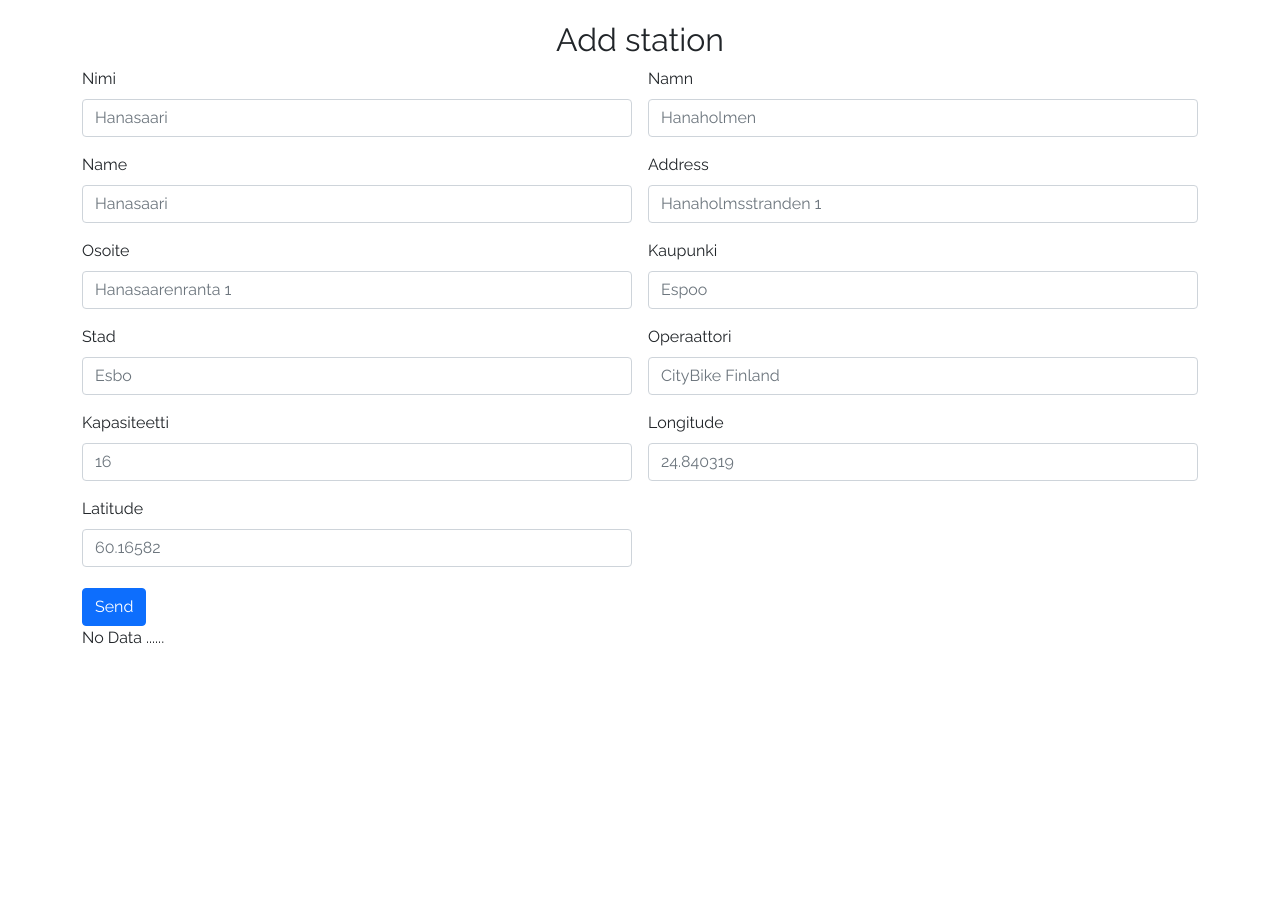
error message when form fields is missing
Click the button: (114, 607) [82,588,146,626]
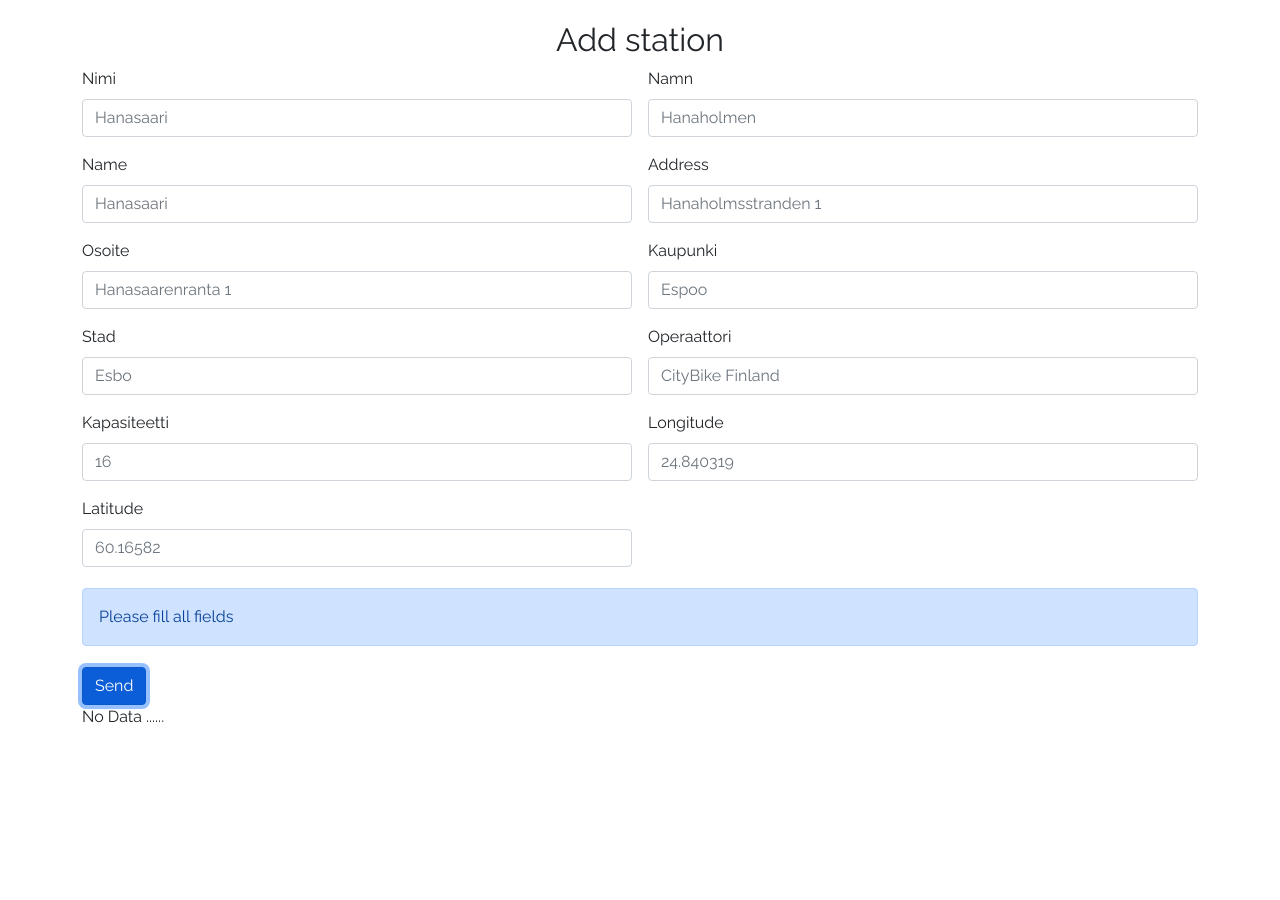
expect the message "Please fill all fields" is shown: met, box [82,588,1198,646]
